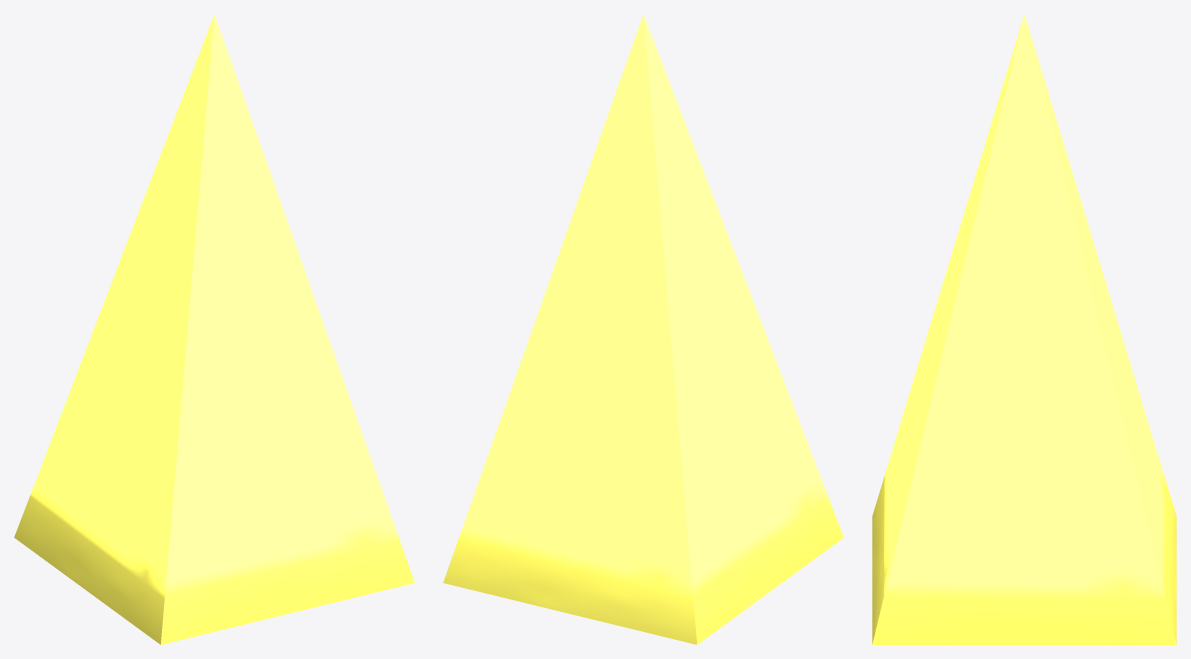
Rendered from UpperLights02_Art.fbx.
3 views of the same model, side by side, from view 1: azimuth 30°, elevation 25°; view 2: azimuth 150°, elevation 25°; view 3: azimuth 270°, elevation 25° (orthographic). The views are drawn at different scales.
Parts seen in each view (by area): view 1: UpperLights02_Art; view 2: UpperLights02_Art; view 3: UpperLights02_Art.
Part boxes in pixels (<box>): UpperLights02_Art: <box>14,14,414,644</box>; UpperLights02_Art: <box>443,14,843,644</box>; UpperLights02_Art: <box>872,14,1176,644</box>.
Bounding box in the file's own units: 0.1914 × 0.3932 × 0.1914.
